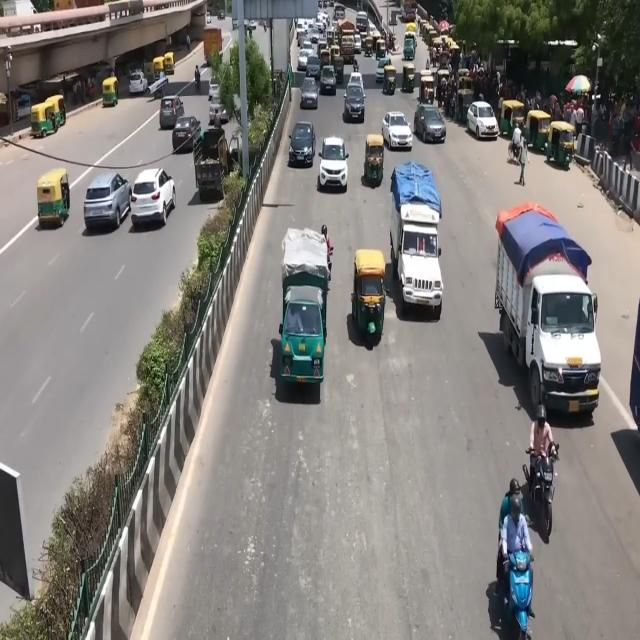auto: (279, 286, 326, 388), (351, 248, 386, 341), (36, 168, 70, 227), (546, 120, 576, 169), (526, 109, 552, 154), (363, 133, 385, 186), (500, 99, 526, 139), (456, 80, 476, 124), (419, 69, 436, 105), (102, 76, 119, 108), (382, 65, 397, 96), (402, 62, 416, 94), (403, 32, 417, 60), (332, 55, 344, 84), (319, 46, 331, 70), (153, 56, 165, 80), (163, 52, 174, 76), (427, 27, 439, 49), (330, 44, 340, 68), (370, 33, 380, 55), (376, 38, 386, 59), (364, 36, 374, 56), (318, 38, 328, 58), (422, 22, 431, 44), (326, 27, 334, 46)
bike-auto: (495, 476, 538, 621), (530, 413, 556, 486), (352, 56, 358, 72), (248, 25, 252, 39)
